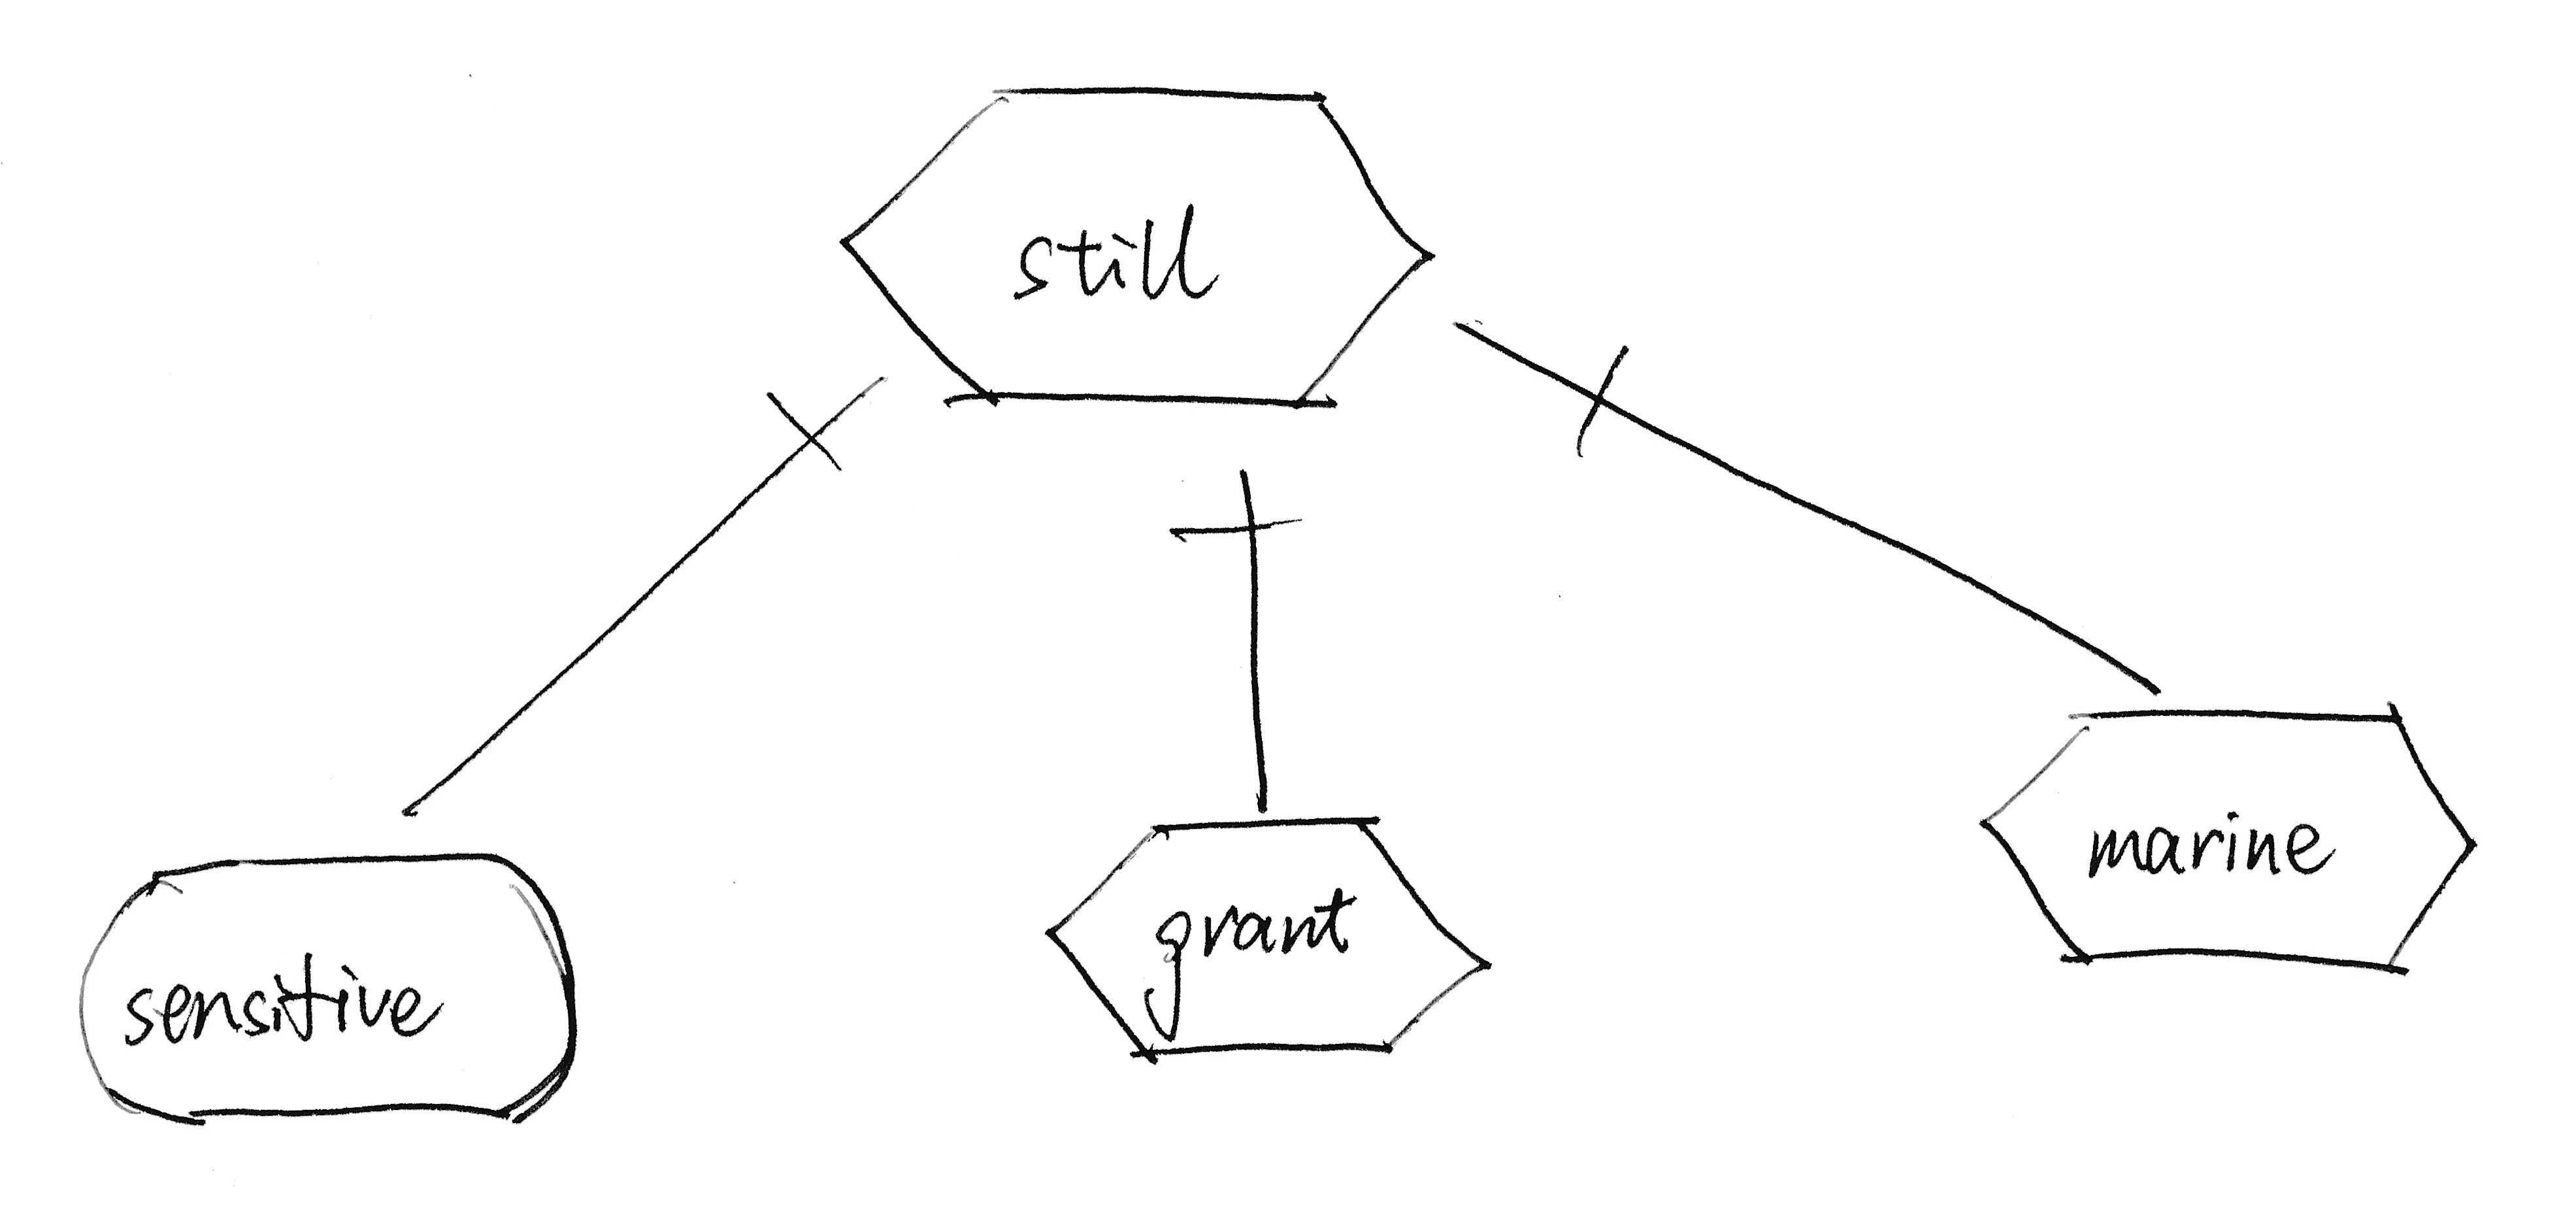and: (1505, 327, 1651, 480), (1135, 473, 1336, 577), (744, 367, 866, 490)
goal: (62, 837, 603, 1141)
task: (828, 49, 1467, 445), (1950, 685, 2492, 993), (1019, 799, 1513, 1090)
